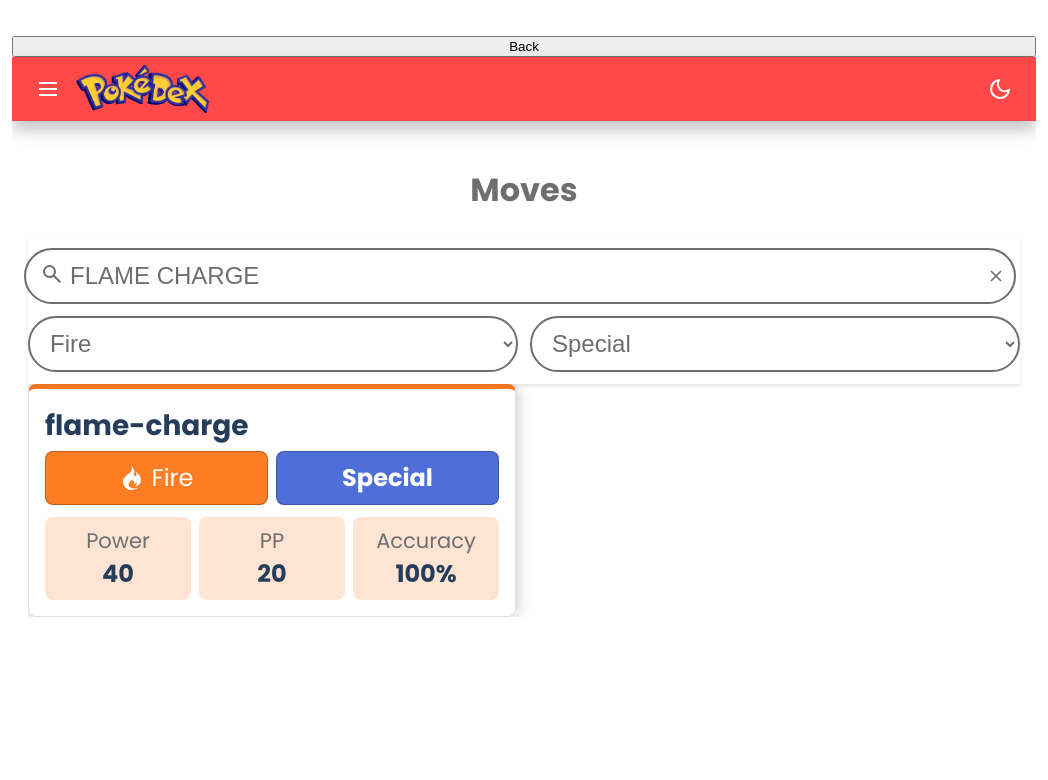
Test case: moves page › restores and searches move names alongside filters, preserving unrelated parameters
Expected: the heading "flame-charge" is shown, [45, 406, 249, 445]
Expected: the heading "ember" is not shown
Step 1. Replace the text in the field named "Search for moves" with "ember" → (520, 276), box [24, 248, 1016, 304]
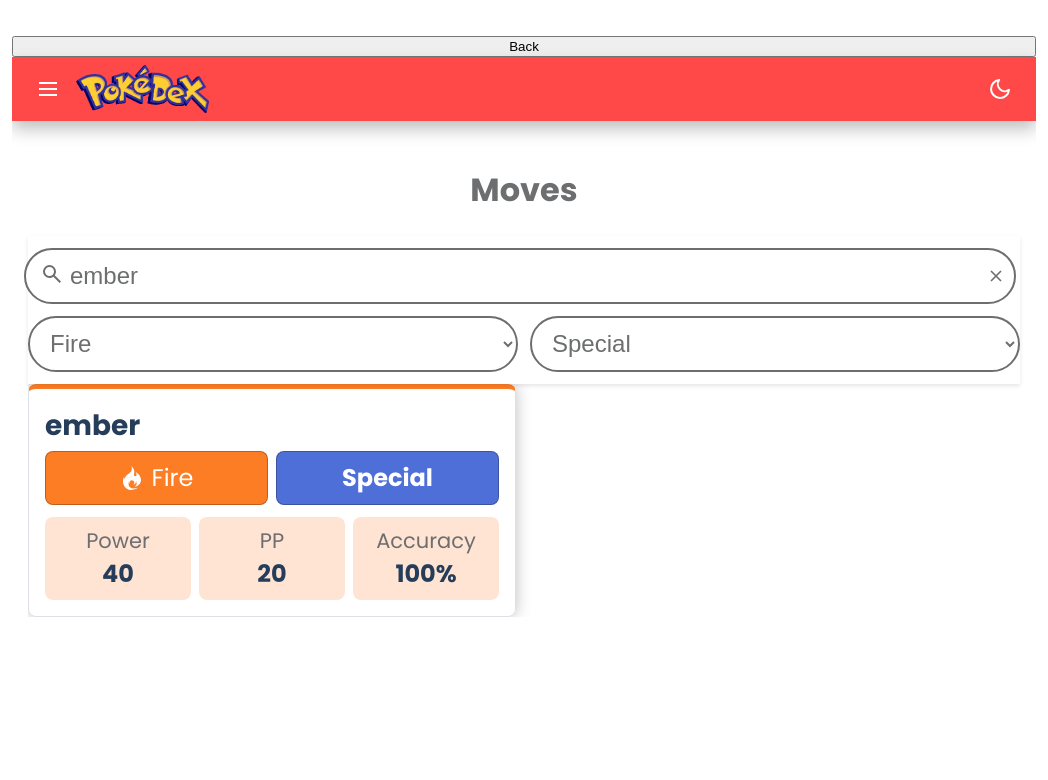
Expected: the text with test id "location" reads "?type=fire&damageClass=special&search=ember&other=keep", [268, 12, 780, 35]
Expected: the heading "ember" is shown, [45, 406, 140, 445]
Expected: the heading "flame-charge" is gone
Step 2. Replace the text in the field named "Search for moves" with "no match" → (520, 276), box [24, 248, 1016, 304]
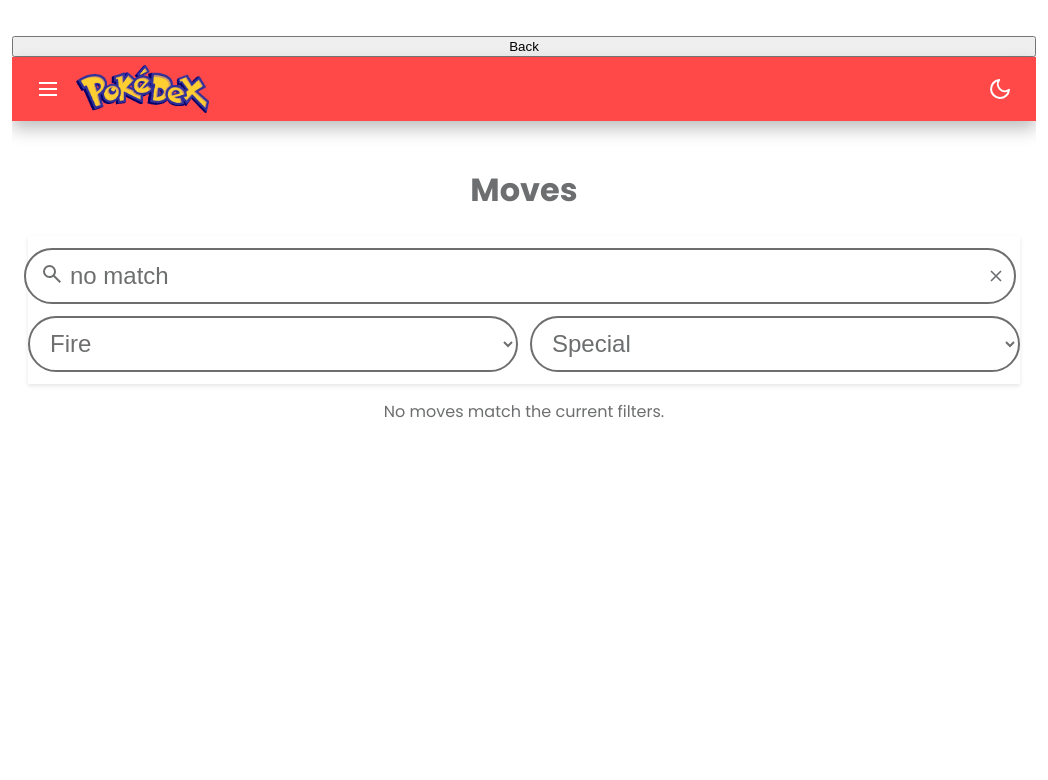
Expected: the text "No moves match the current filters." is shown, [384, 400, 664, 423]
Step 3. Click the button named "Clear search" → (996, 276), box [976, 256, 1016, 296]
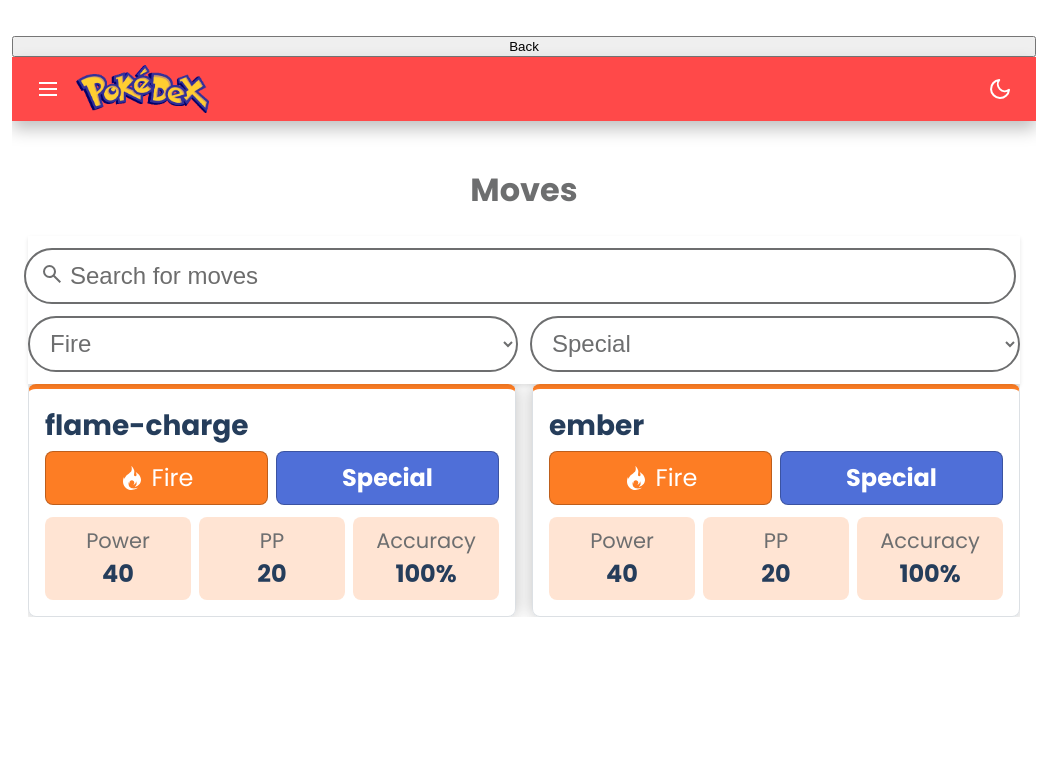
Expected: the text with test id "location" reads "?type=fire&damageClass=special&other=keep", [334, 12, 714, 35]
Expected: the heading "flame-charge" is shown, [45, 406, 249, 445]
